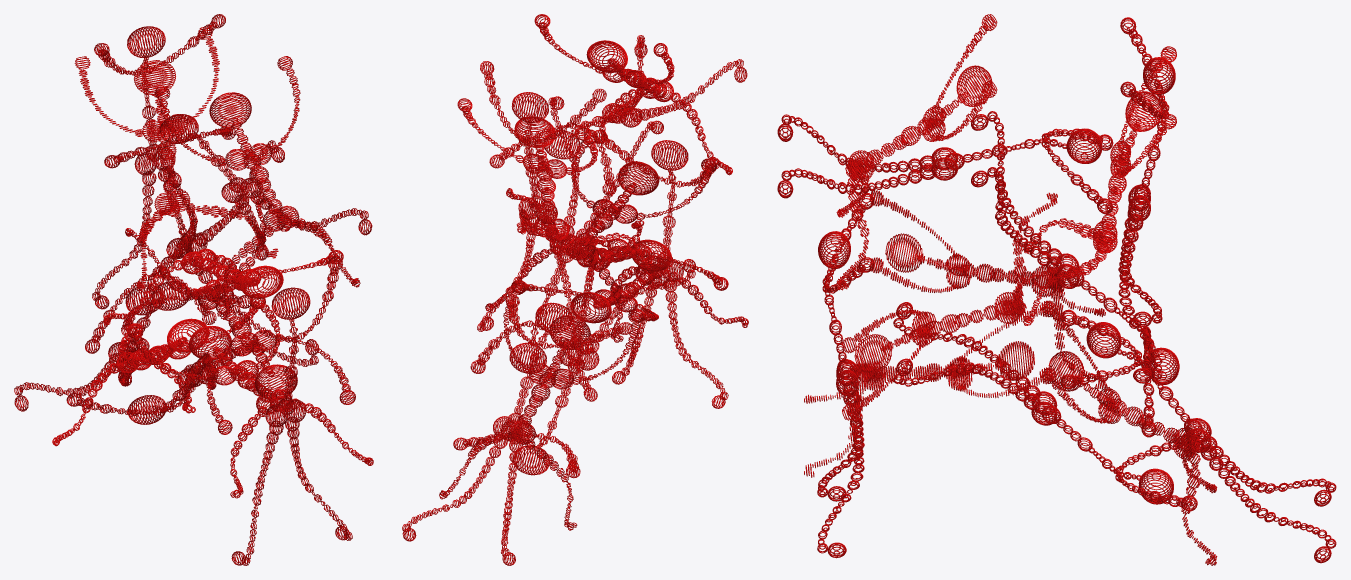
File: w6o1m6-500K_RED-v145.glb
The picture shows the model from 3 angles, left to right: view 1: azimuth 30°, elevation 25°; view 2: azimuth 150°, elevation 25°; view 3: azimuth 270°, elevation 25°; orthographic projection. The views are drawn at different scales.
Visible parts, largest first — view 1: Object_3380.001; view 2: Object_3380.001; view 3: Object_3380.001.
Boxes of the visible parts, x1,y1,x2,y2 form: Object_3380.001: (14, 14, 373, 565); Object_3380.001: (402, 14, 748, 565); Object_3380.001: (777, 14, 1336, 565).
Bounding box in the file's own units: 2.03 × 5.91 × 6.16.
